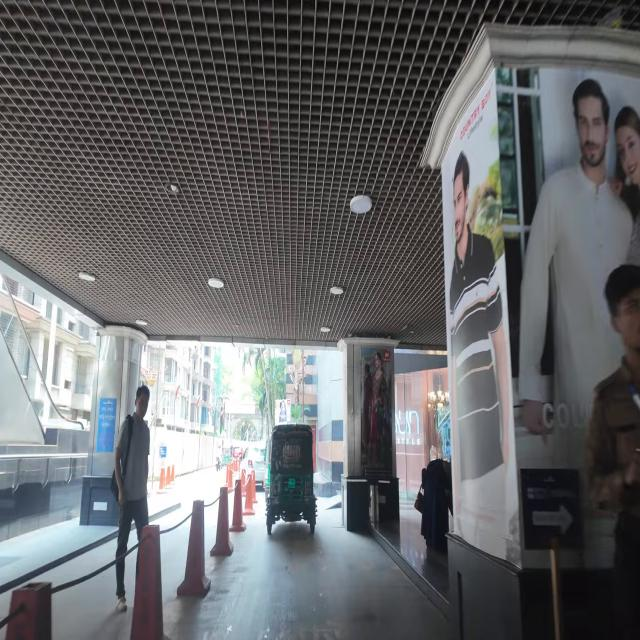person: (111, 385, 159, 613)
